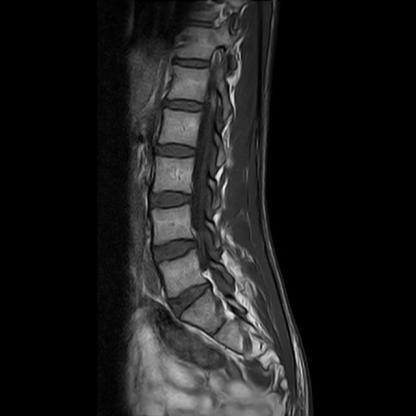Degenerative Disc Diseaserotation: (167, 282, 216, 313)
Disc Bulgerotation: (167, 282, 217, 313)
